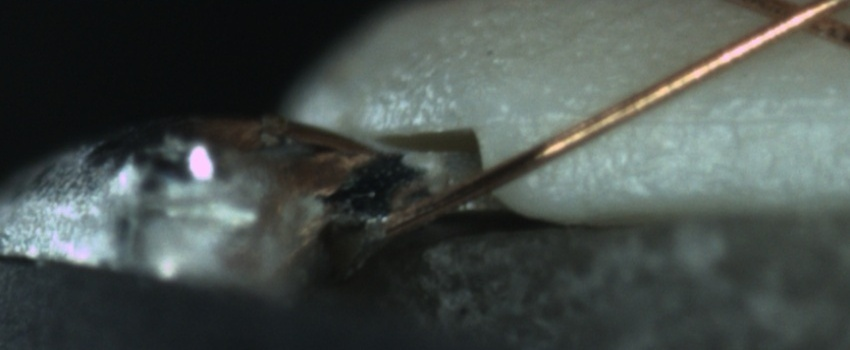CL: (739, 1, 847, 44)
DL: (537, 86, 849, 150)
